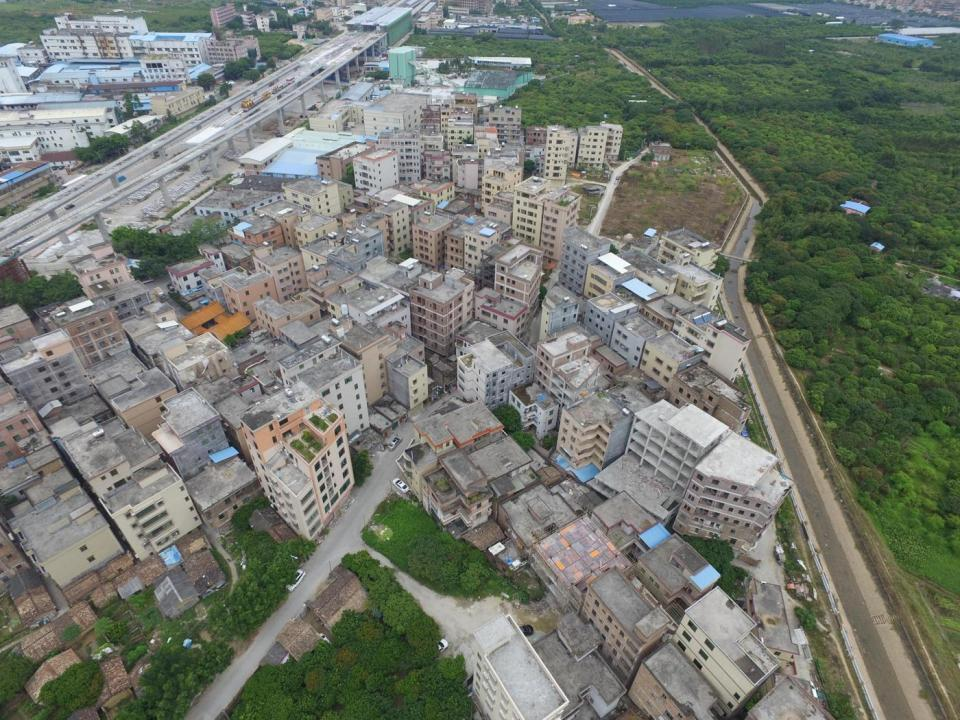bus: (150, 148, 162, 159)
car: (283, 568, 307, 593), (426, 637, 448, 658), (508, 623, 533, 641), (392, 477, 410, 494), (386, 435, 403, 451), (67, 162, 77, 170), (63, 203, 75, 209), (166, 283, 174, 292), (342, 125, 353, 131), (52, 164, 58, 170), (64, 164, 69, 170), (616, 174, 620, 180), (59, 165, 63, 170), (614, 179, 618, 184)
truck: (154, 285, 166, 301), (363, 76, 374, 84), (113, 176, 126, 182), (371, 94, 383, 100), (344, 122, 355, 128), (442, 74, 453, 80), (453, 72, 458, 78)
